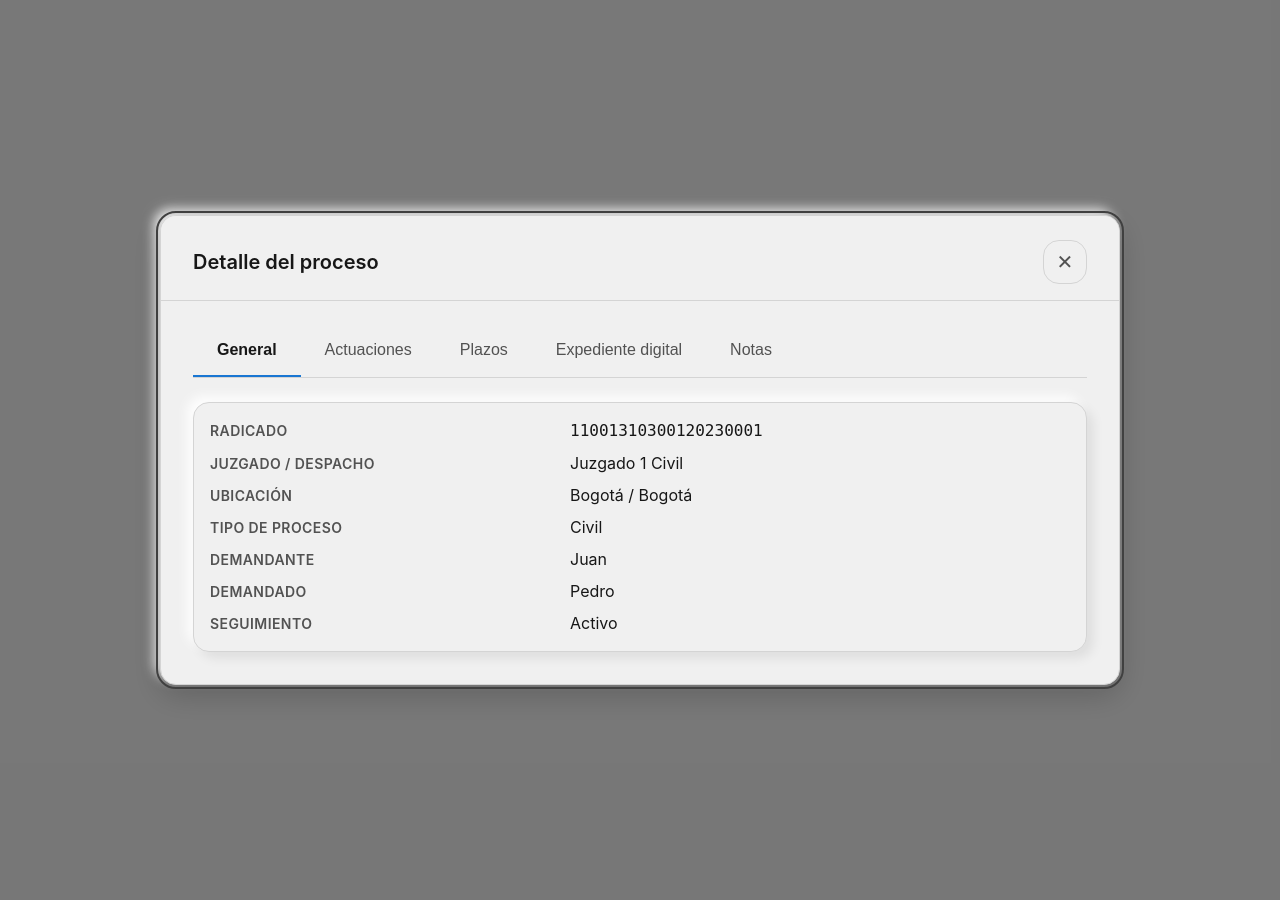
Test: ModalDetalle › muestra actuaciones en tab Actuaciones y plazos en tab Plazos
Expected: the element showing "General Actuaciones Plazos Expediente digital Notas" is shown, x1=193 y1=325 x2=1087 y2=378
// Click on "Actuaciones" tab
Click the tab "Actuaciones": (368, 351) x1=301 y1=325 x2=436 y2=377
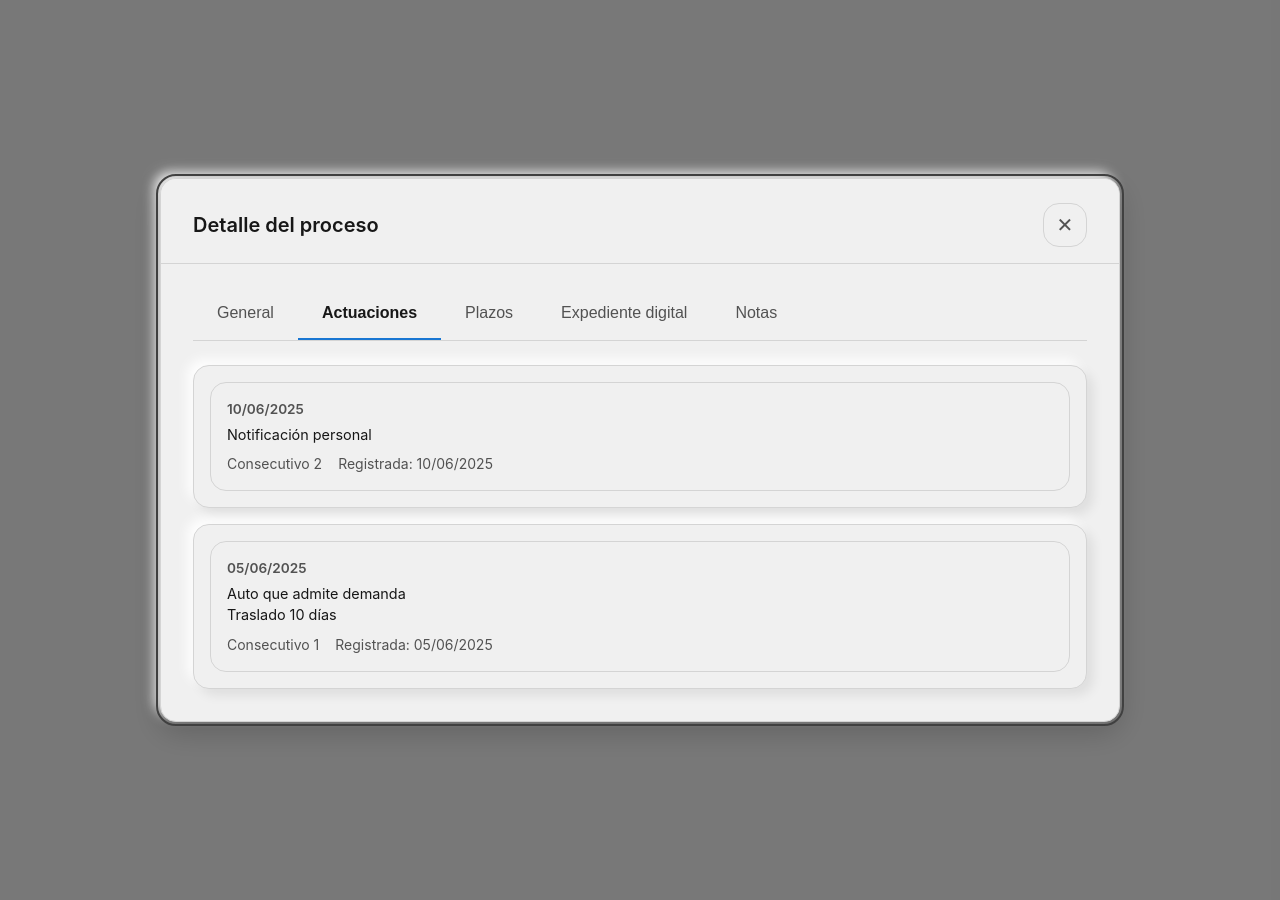
Now the text "Notificación personal" is shown, box x1=227 y1=426 x2=372 y2=443
Now the text "Auto que admite demanda" is shown, box x1=227 y1=585 x2=406 y2=602
Now the text "Traslado 10 días" is shown, box x1=227 y1=606 x2=337 y2=623
// Click on "Plazos" tab
Click the tab "Plazos": (489, 314) x1=441 y1=288 x2=537 y2=340
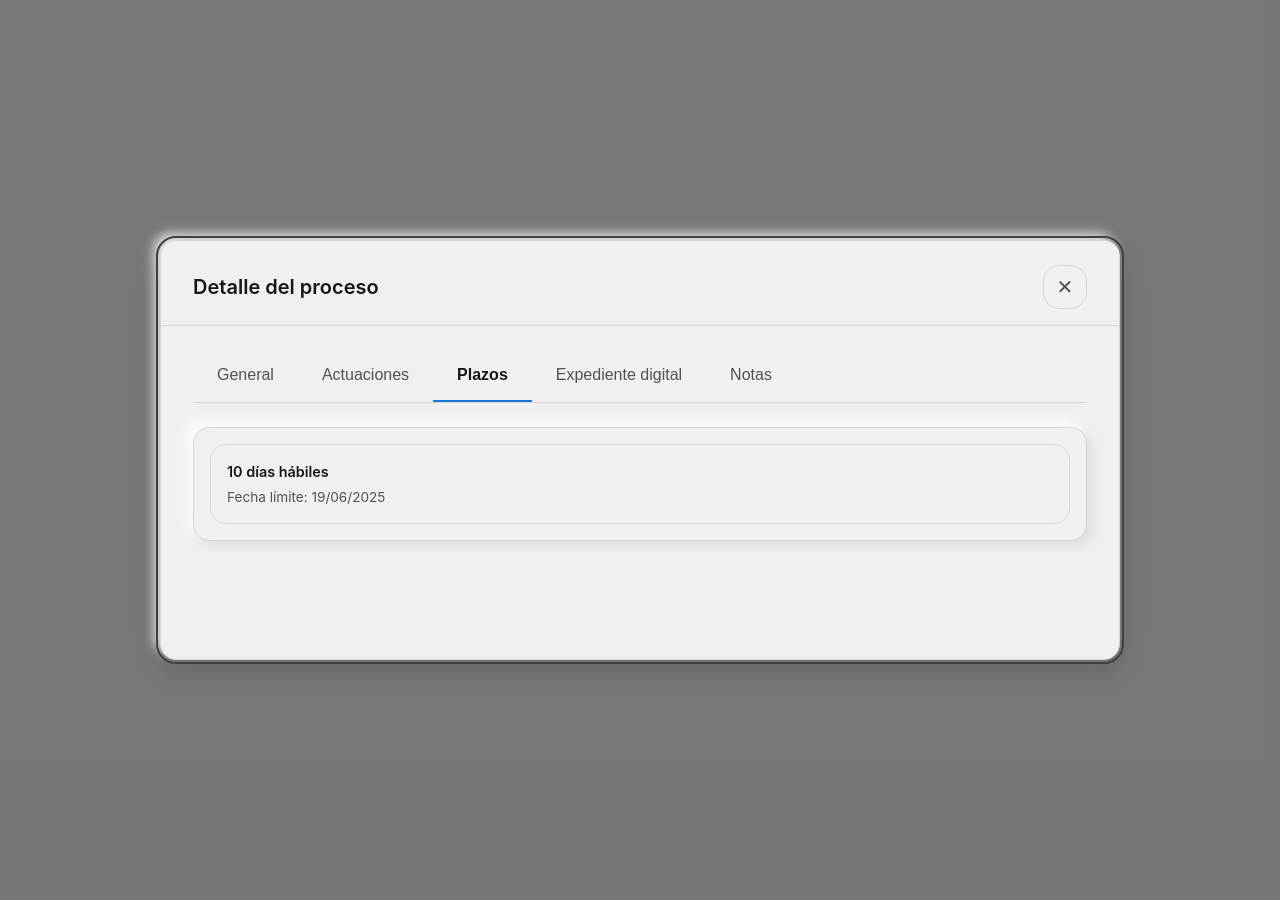
Now the text "10 días hábiles" is shown, box x1=227 y1=463 x2=329 y2=480
